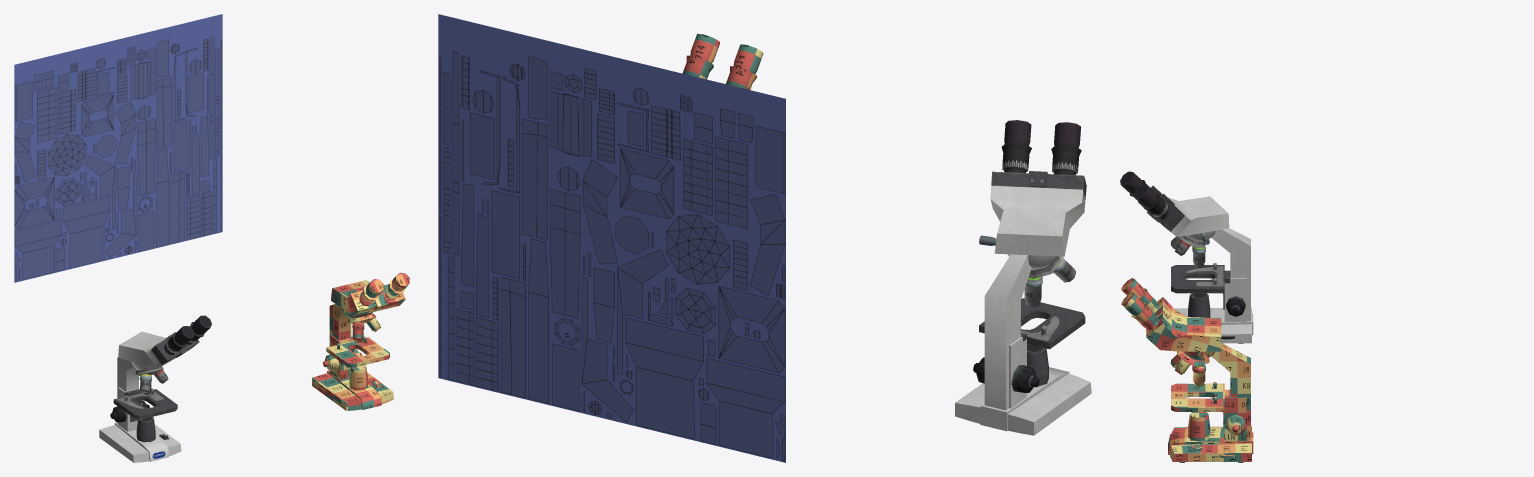
The picture shows the model from 3 angles, left to right: view 1: azimuth 30°, elevation 25°; view 2: azimuth 150°, elevation 25°; view 3: azimuth 270°, elevation 25°; orthographic projection. The views are drawn at different scales.
Visible parts, largest first — view 1: Plane, Base3.003, Base3.004; view 2: Plane, Base3.003, Base3.004; view 3: Base3.004, Base3.003.
Boxes of the visible parts, x1=… form: Plane: x1=14, y1=14, x2=222, y2=282; Base3.003: x1=99, y1=315, x2=211, y2=462; Base3.004: x1=312, y1=272, x2=409, y2=410; Plane: x1=438, y1=14, x2=785, y2=462; Base3.003: x1=955, y1=120, x2=1091, y2=435; Base3.004: x1=682, y1=33, x2=763, y2=89; Base3.004: x1=1121, y1=278, x2=1253, y2=462; Base3.003: x1=1120, y1=171, x2=1253, y2=343.
Bounding box in the file's own units: 0.7486 × 0.7616 × 0.8541.
Materials: 3 (3 with a texture image).
